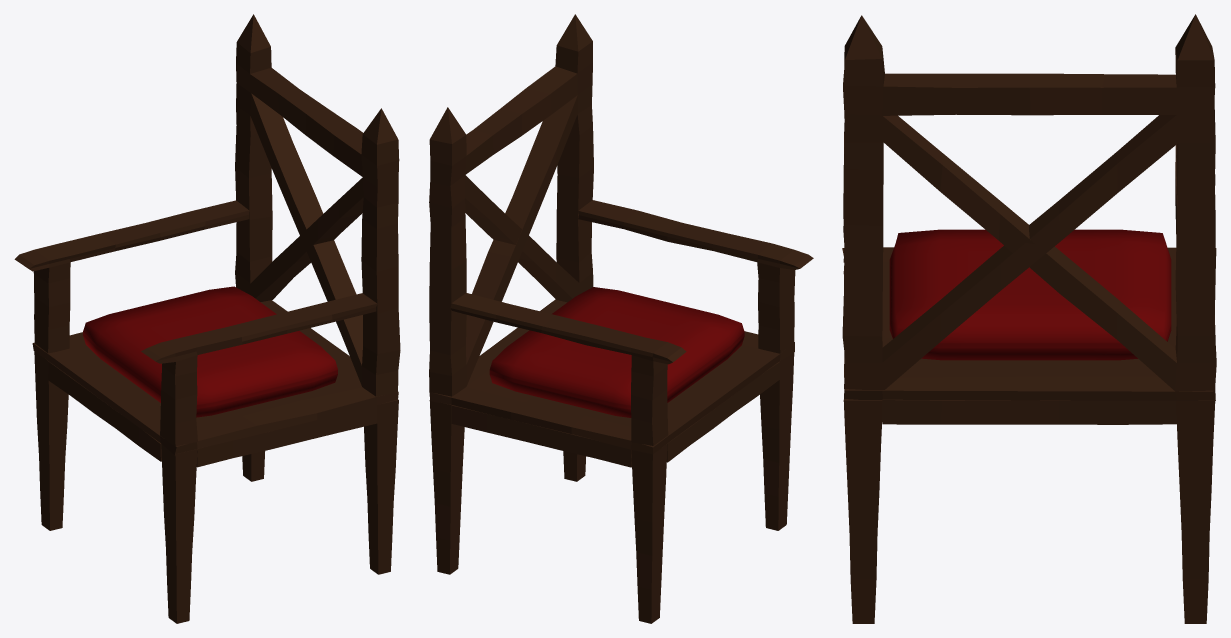
File: deathchair.fbx
The picture shows the model from 3 angles, left to right: view 1: azimuth 30°, elevation 25°; view 2: azimuth 150°, elevation 25°; view 3: azimuth 270°, elevation 25°; orthographic projection. The views are drawn at different scales.
Parts seen in each view (by area): view 1: chair back, seat cushion, chair arm, death seat, seat bottom ledges, seat leg, seat leg.003, seat leg.001, seat leg.002; view 2: chair back, seat cushion, chair arm, death seat, seat bottom ledges, seat leg.001, seat leg.002, seat leg, seat leg.003; view 3: chair back, seat cushion, death seat, seat bottom ledges, seat leg.003, seat leg.002.
Boxes of the visible parts, bbox=[...] form: chair back: bbox=[235, 14, 400, 396]; seat cushion: bbox=[83, 286, 337, 417]; chair arm: bbox=[14, 200, 377, 446]; death seat: bbox=[32, 300, 398, 455]; seat bottom ledges: bbox=[48, 361, 376, 467]; seat leg: bbox=[161, 444, 197, 623]; seat leg.003: bbox=[364, 399, 398, 574]; seat leg.001: bbox=[34, 351, 68, 530]; seat leg.002: bbox=[242, 451, 265, 481]; chair back: bbox=[429, 14, 593, 396]; seat cushion: bbox=[489, 287, 744, 417]; chair arm: bbox=[450, 200, 813, 445]; death seat: bbox=[429, 299, 794, 454]; seat bottom ledges: bbox=[451, 361, 779, 467]; seat leg.001: bbox=[631, 444, 667, 623]; seat leg.002: bbox=[429, 400, 464, 574]; seat leg: bbox=[760, 353, 794, 530]; seat leg.003: bbox=[563, 451, 586, 481]; chair back: bbox=[842, 14, 1216, 391]; seat cushion: bbox=[889, 229, 1171, 360]; death seat: bbox=[842, 247, 1216, 400]; seat bottom ledges: bbox=[843, 272, 1176, 424]; seat leg.003: bbox=[843, 399, 882, 623]; seat leg.002: bbox=[1176, 400, 1215, 623].
Bounding box in the file's own units: 150 × 272 × 152.
